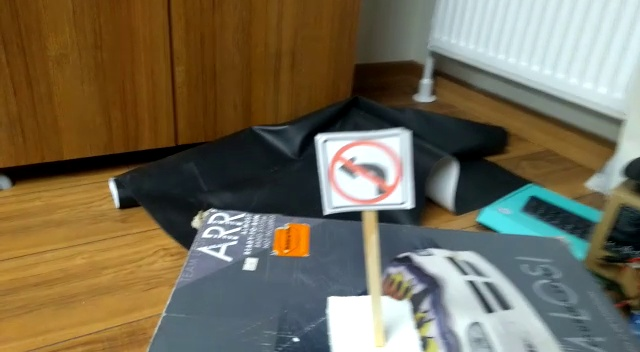sola_donulmez: (329, 132, 406, 208)
